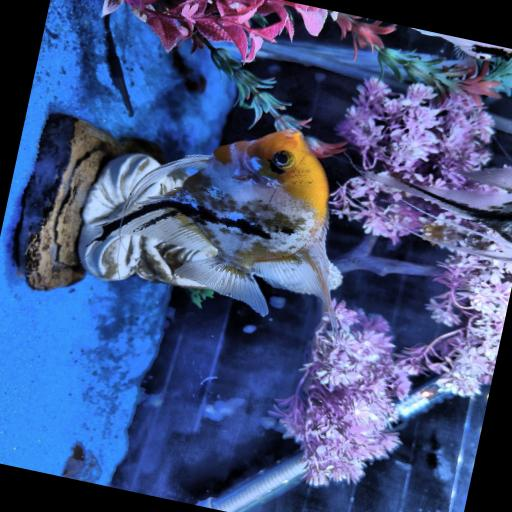Fish: (92, 128, 337, 335), (358, 165, 511, 247), (412, 28, 511, 59)
